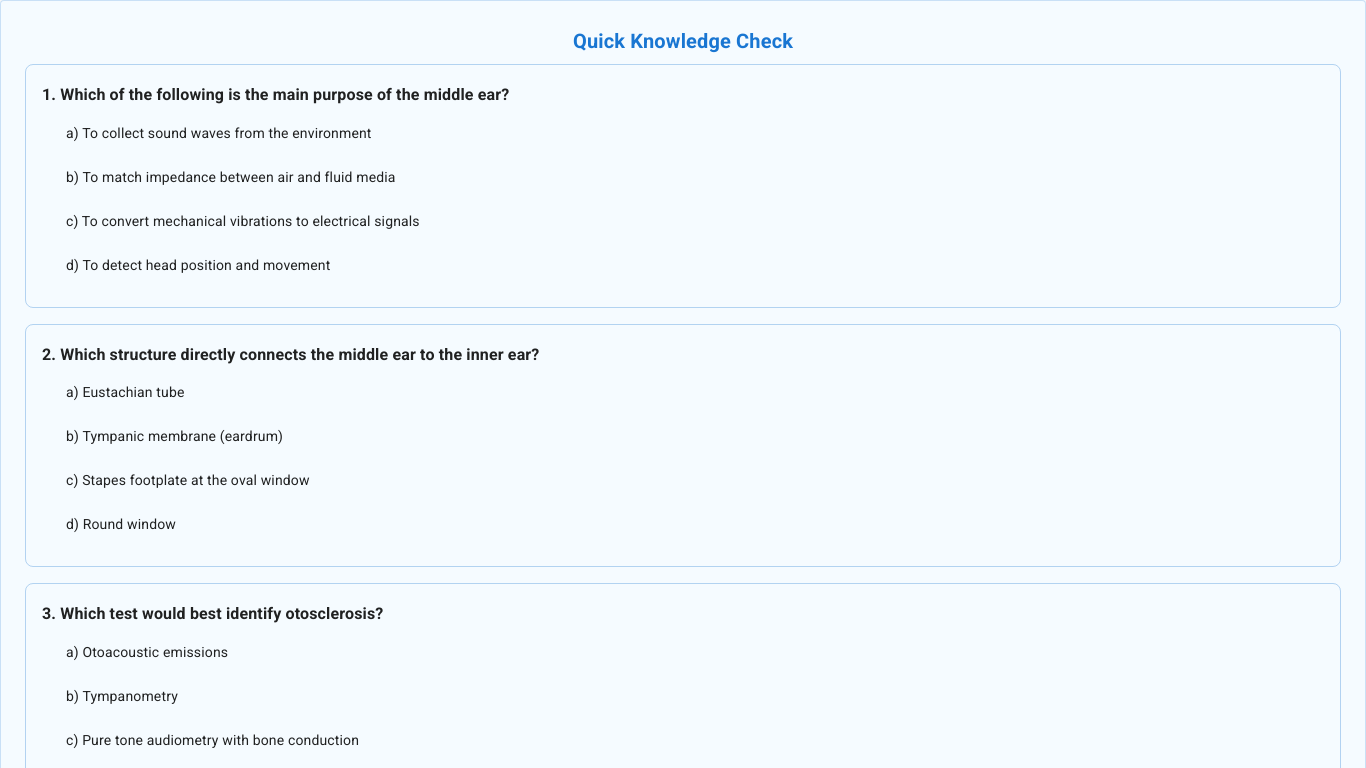
Test: AnatomyQuiz › shows Check Answer button after selecting an answer
Check: the text "Check Answer" is not shown
Click the button "a) To collect sound waves from the environment" at (219, 133), box [66,125,372,141]
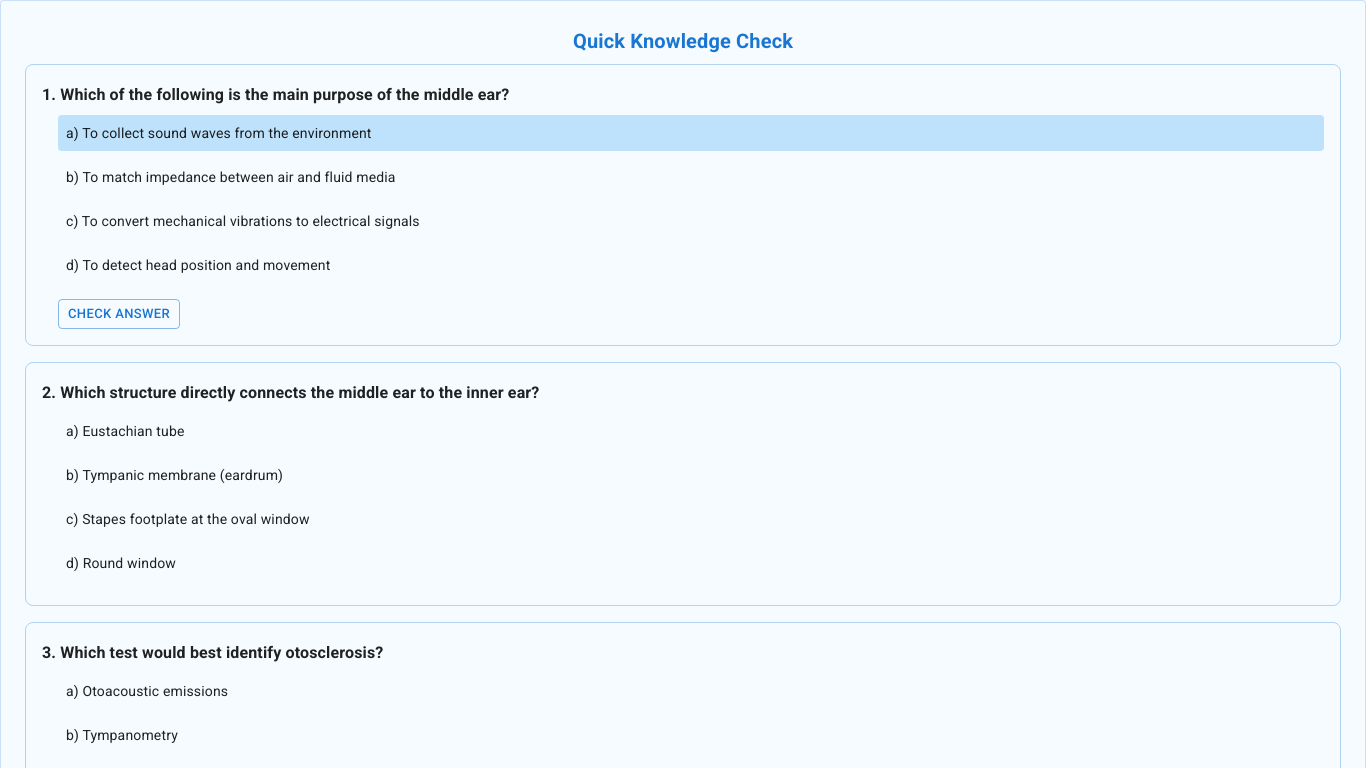
Check: the button "Check Answer" is shown, box [58,299,180,330]
